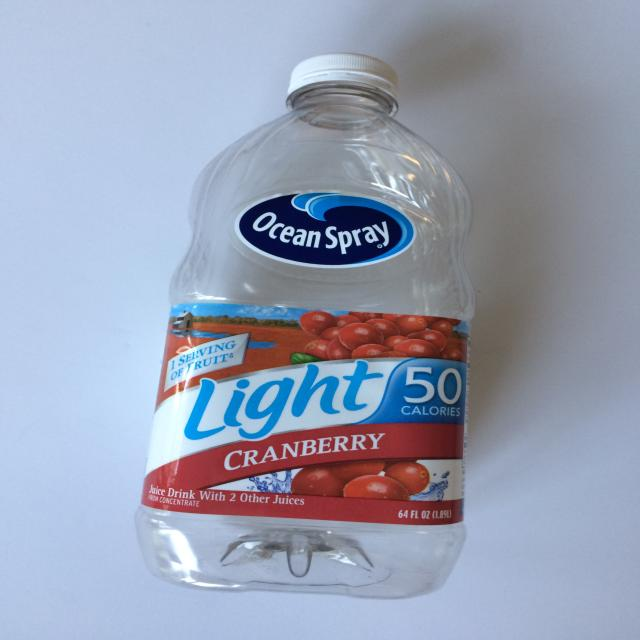plastic: (134, 51, 476, 600)
